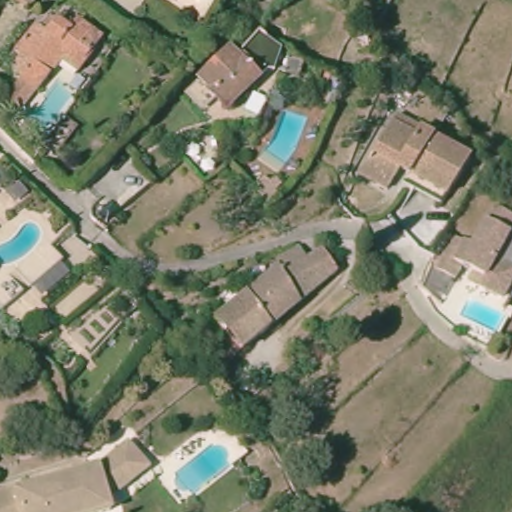pool: (172, 439, 233, 498), (262, 106, 312, 166), (456, 296, 509, 339), (31, 77, 73, 131), (1, 220, 42, 266)
